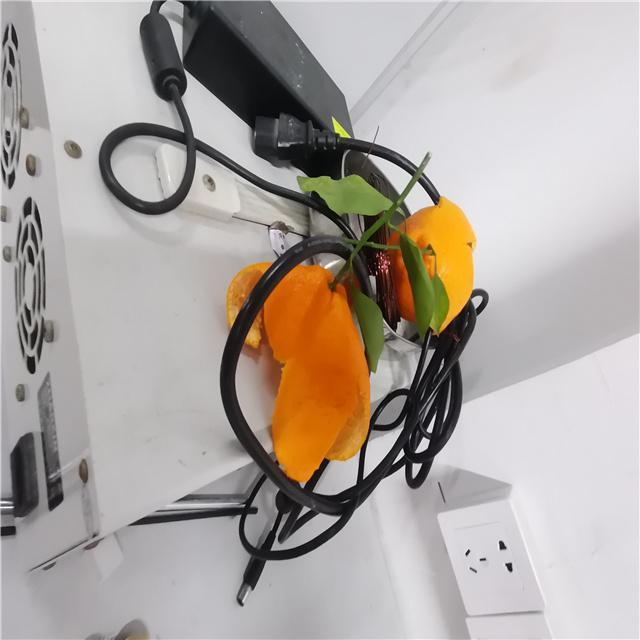orange peel: (229, 262, 374, 487), (391, 199, 475, 337)
